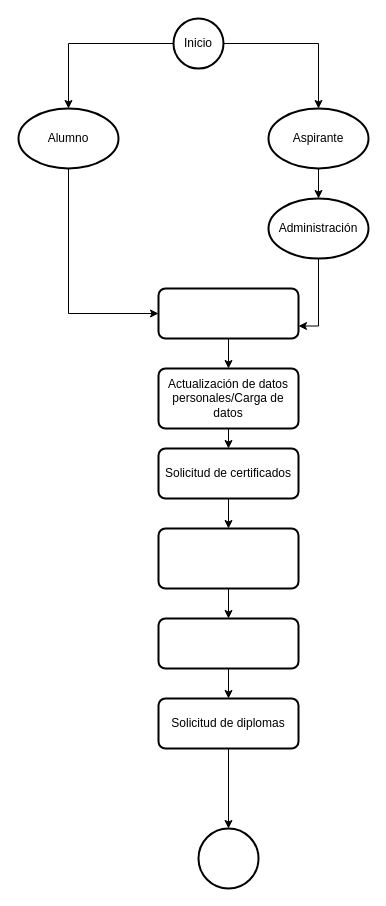
Image size: 386x906. Some labels were removed from this diagram. The centre of each missing label's shape, as x and y in pixels:
Carga de justificación de inasistencias: (x=228, y=643)
Consultas de historial académico: (x=228, y=558)
Finalizar: (x=228, y=858)
Proceso de inscripción: (x=228, y=313)
